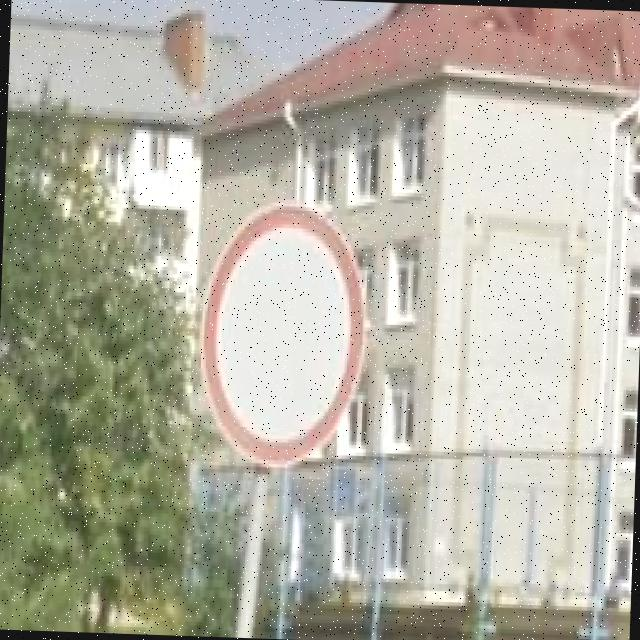Zakaz ruchu w obu kierunkach: (194, 200, 370, 470)
